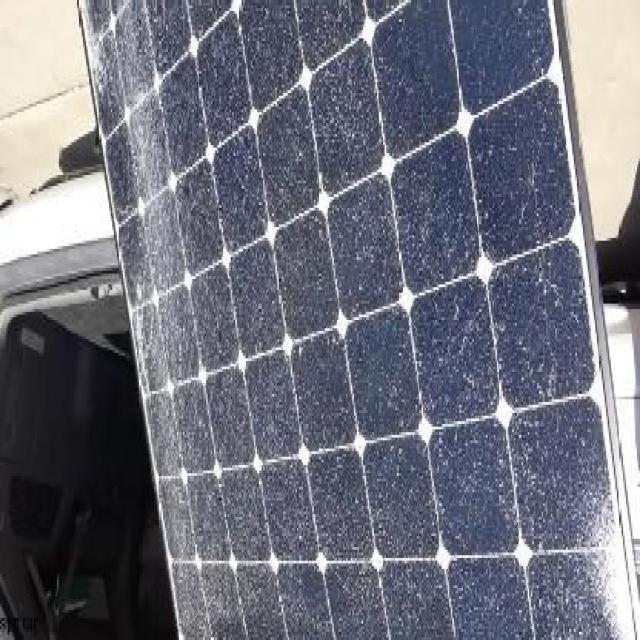cracked: (71, 0, 639, 638)
